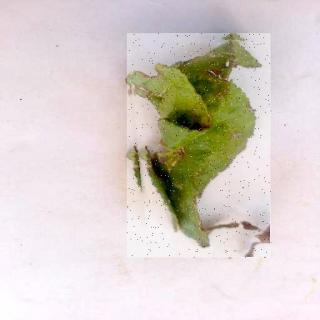Brown Blight: (128, 35, 273, 260)
